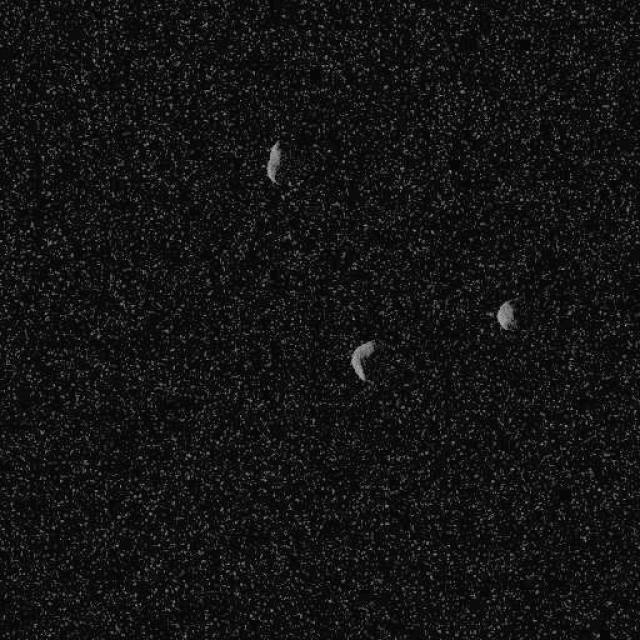D2: (349, 338, 376, 384), (265, 138, 283, 184), (495, 299, 517, 331)
